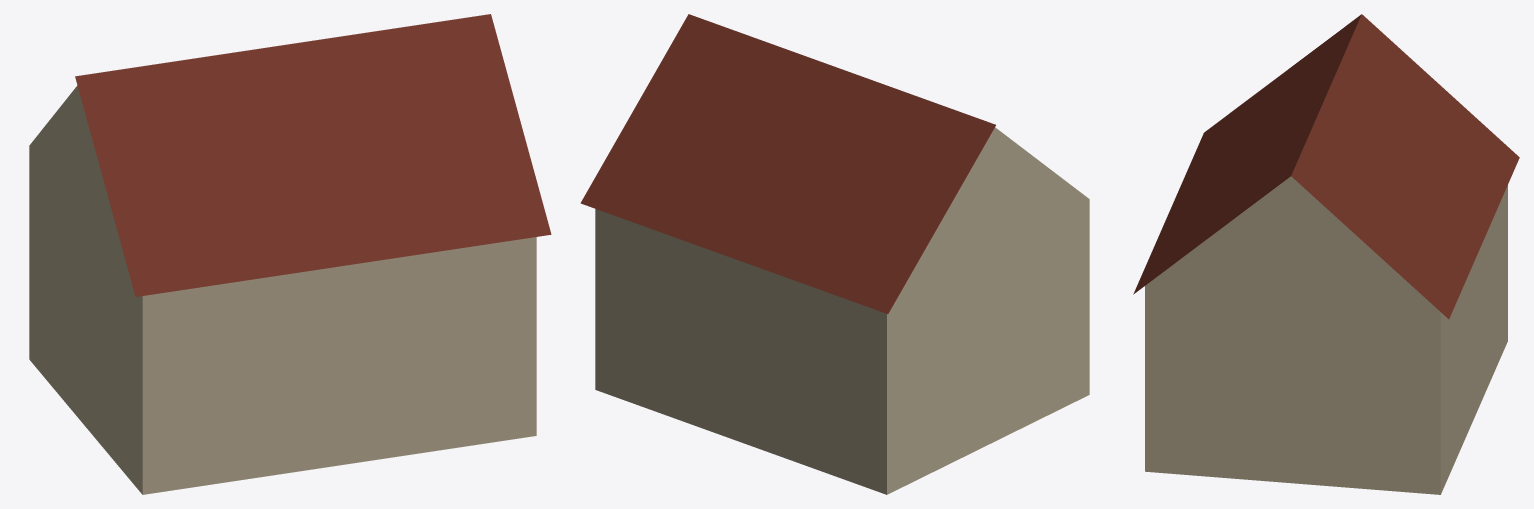
3 views of the same model, side by side, from view 1: azimuth 30°, elevation 25°; view 2: azimuth 150°, elevation 25°; view 3: azimuth 270°, elevation 25° (orthographic). The views are drawn at different scales.
Parts seen in each view (by area): view 1: buildings; view 2: buildings; view 3: buildings.
Part boxes in pixels (x1,y1,x2,y2): buildings: (29,14,551,494); buildings: (580,14,1089,494); buildings: (1133,14,1519,494).
Size of the model in its own units: 12.96 by 10.07 by 11.33.
